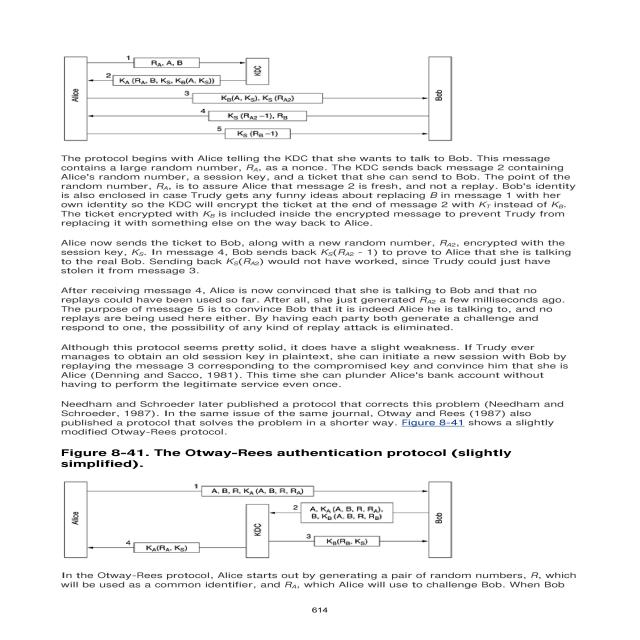diagram: (41, 445, 581, 572), (639, 363, 640, 394)
